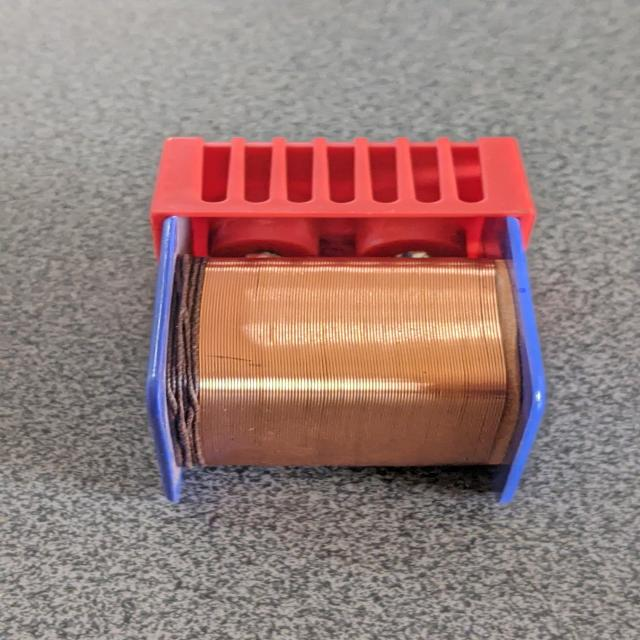Solenoid: (127, 133, 552, 515)
